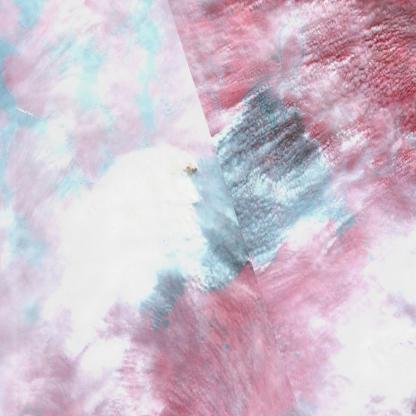fire: (140, 95, 359, 332)
